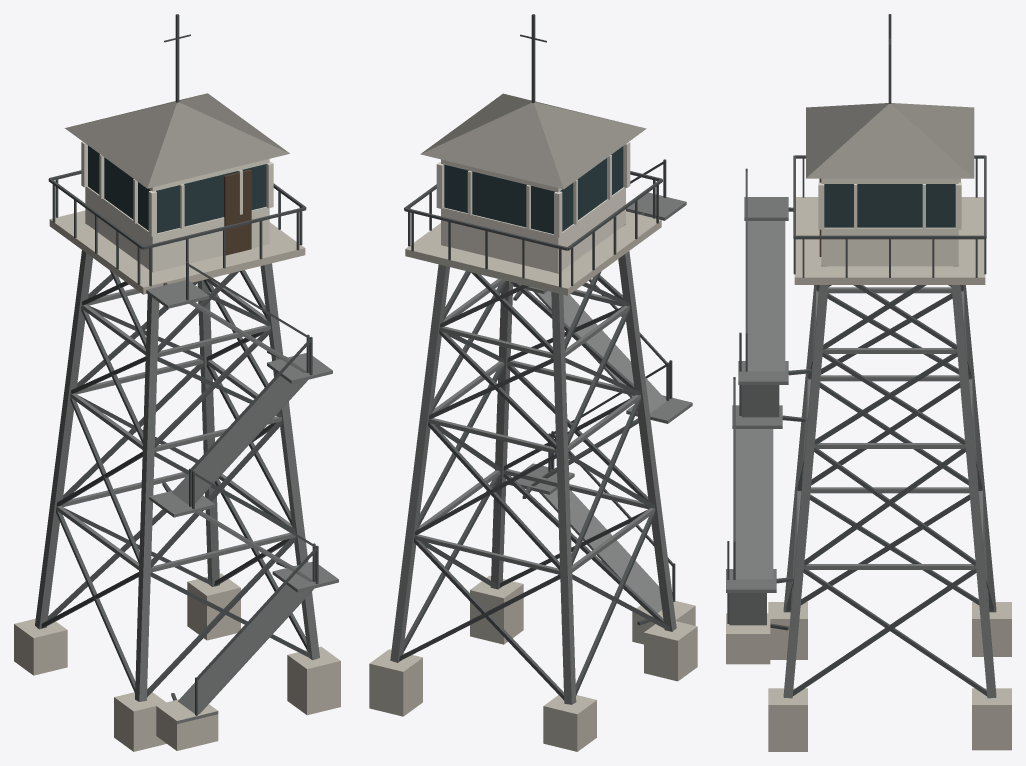
Rendered from yangin-gozetleme-kulesi.glb.
The picture shows the model from 3 angles, left to right: view 1: azimuth 30°, elevation 25°; view 2: azimuth 150°, elevation 25°; view 3: azimuth 270°, elevation 25°; orthographic projection.
Visible parts, largest first — view 1: celik, celik_koyu, beton, sac, kabin, cam, ahsap_koyu; view 2: celik, celik_koyu, beton, sac, kabin, cam; view 3: celik, celik_koyu, beton, sac, kabin, cam.
Part boxes in pixels (box(x1,y1,x2,y2)): celik: box(35, 223, 338, 723); celik_koyu: box(41, 14, 318, 715); beton: box(14, 210, 340, 751); sac: box(65, 93, 289, 188); kabin: box(81, 141, 273, 272); cam: box(88, 145, 266, 233); ahsap_koyu: box(224, 169, 251, 255); celik: box(390, 192, 692, 704); celik_koyu: box(399, 14, 675, 700); beton: box(369, 211, 697, 751); sac: box(420, 93, 646, 189); kabin: box(436, 142, 630, 273); cam: box(444, 146, 623, 234); celik: box(726, 197, 996, 698); celik_koyu: box(727, 14, 993, 696); beton: box(726, 197, 1011, 751); sac: box(806, 103, 974, 178); kabin: box(818, 178, 961, 266); cam: box(824, 184, 955, 227).
Bounding box in the file's own units: 5.5 × 17.09 × 6.45.
